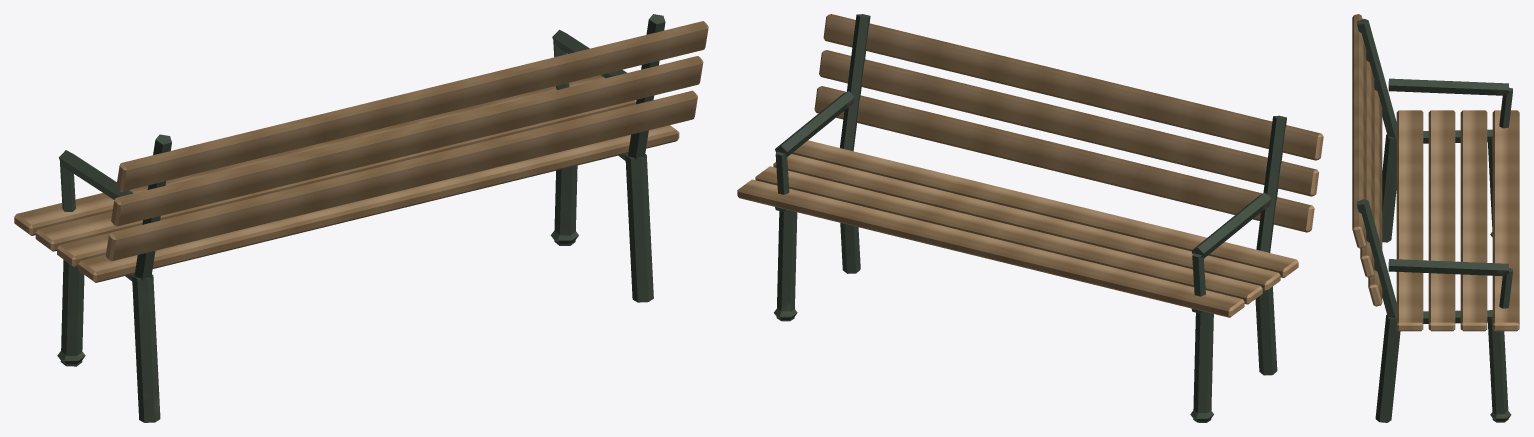
The model's file is bench.glb.
The picture shows the model from 3 angles, left to right: view 1: azimuth 30°, elevation 25°; view 2: azimuth 150°, elevation 25°; view 3: azimuth 270°, elevation 25°; orthographic projection. The views are drawn at different scales.
Parts seen in each view (by area): view 1: bench; view 2: bench; view 3: bench.
Boxes of the visible parts, bbox=[...] form: bench: bbox=[14, 14, 708, 422]; bench: bbox=[737, 14, 1323, 422]; bench: bbox=[1352, 14, 1519, 422].
Size of the model in its own units: 1.9 by 0.9101 by 0.6261.
1 material, 1 textured.
